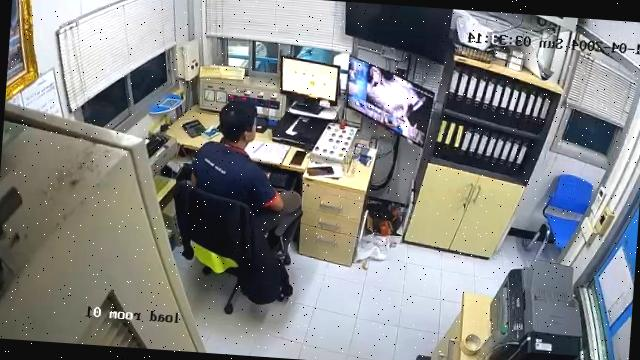Head: (215, 102, 257, 146)
People: (191, 103, 300, 235)
Phone: (303, 165, 334, 176), (289, 149, 308, 165)
